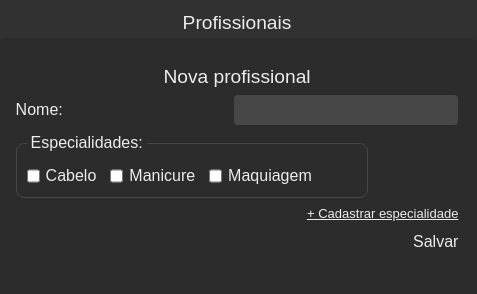
Test: Profissionais: várias especialidades › não deixa salvar sem nenhuma especialidade
Expected: the checkbox labelled "Cabelo" is shown, [27,161,40,191]
Type "Carla" into the field labelled "Nome:" at x=346, y=110, box [234,95,458,125]
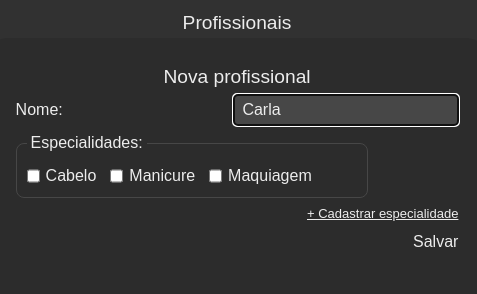
Click the button "Salvar" at x=436, y=242, box [413,230,458,254]
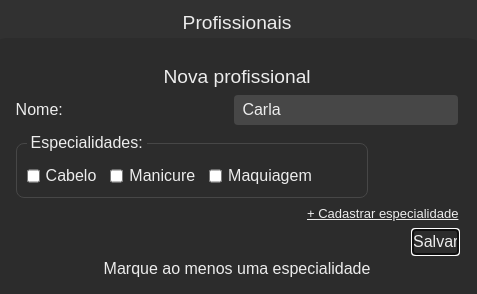
Now the message reads "Marque ao menos uma especialidade", box [104,260,370,277]
